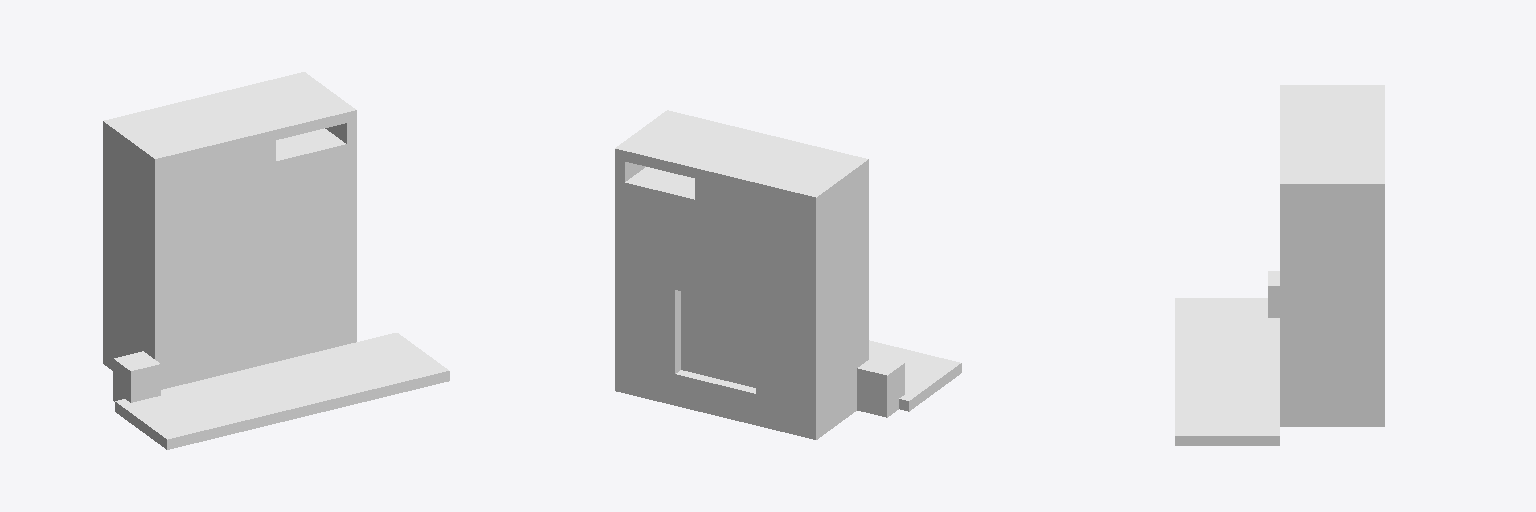
File: SHKasa.obj
The picture shows the model from 3 angles: view 1: azimuth 30°, elevation 25°; view 2: azimuth 150°, elevation 25°; view 3: azimuth 270°, elevation 25°; orthographic projection.
Visible parts, largest first — view 1: object 1; view 2: object 1; view 3: object 1.
Boxes of the visible parts, x1,y1,x2,y2 form: object 1: [103, 72, 449, 449]; object 1: [615, 110, 961, 439]; object 1: [1175, 85, 1384, 445].
Size of the model in its own units: 11.2 by 9.2 by 7.2.